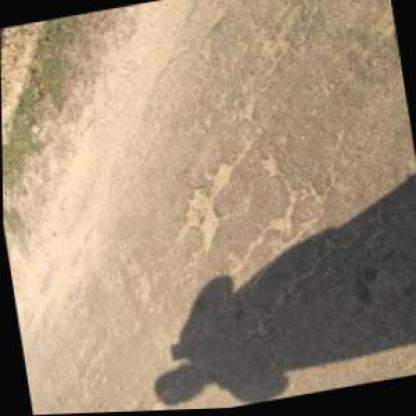pothole: (168, 158, 245, 257), (256, 154, 283, 183)
